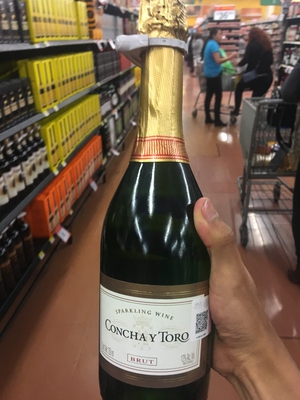brut: (100, 29, 213, 400)
